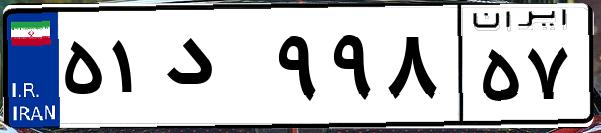1: (110, 28, 158, 98)
5: (57, 26, 110, 100), (475, 38, 525, 113)
7: (525, 38, 570, 115)
8: (385, 28, 445, 110)
9: (270, 28, 330, 110), (330, 28, 385, 110)
د: (158, 20, 270, 120)
